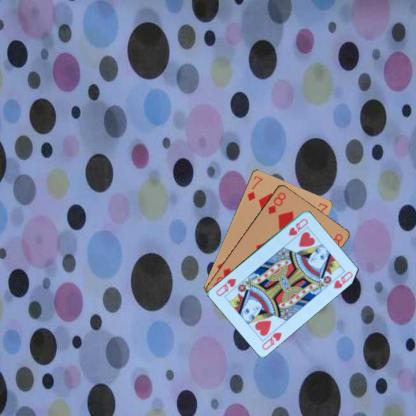7d: (244, 173, 264, 202)
8d: (265, 189, 287, 215)
Qh: (286, 216, 309, 238), (260, 330, 283, 352)
